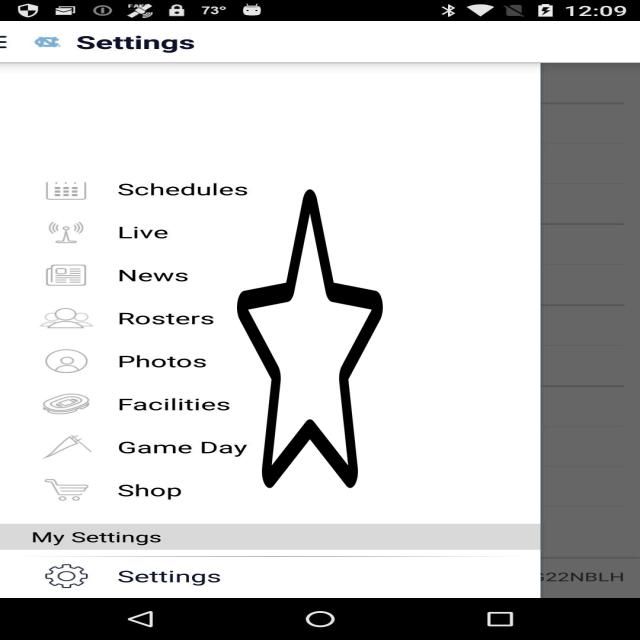forced continuity: (237, 183, 383, 494)
